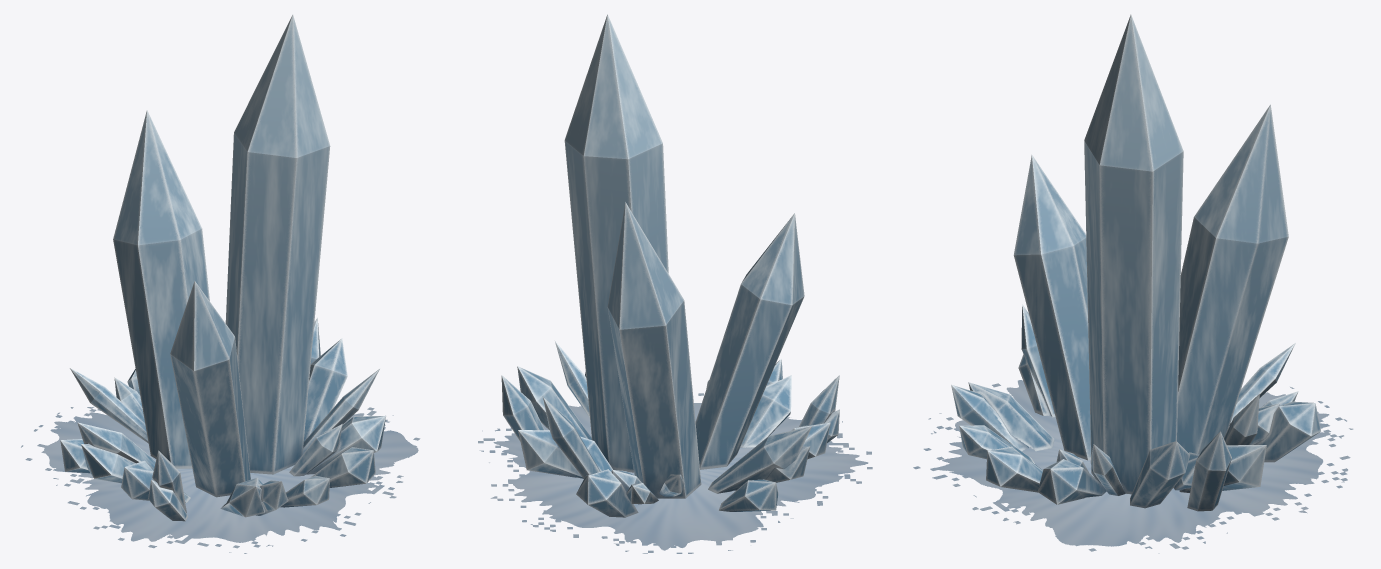
The model's file is 펑크_얼음가시_03.fbx.
3 views of the same model, side by side, from view 1: azimuth 30°, elevation 25°; view 2: azimuth 150°, elevation 25°; view 3: azimuth 270°, elevation 25° (orthographic). The views are drawn at different scales.
Parts seen in each view (by area): view 1: 펑크_얼음가시_03; view 2: 펑크_얼음가시_03; view 3: 펑크_얼음가시_03.
Boxes of the visible parts, <box> form: 펑크_얼음가시_03: <box>21,14,420,553</box>; 펑크_얼음가시_03: <box>478,14,872,553</box>; 펑크_얼음가시_03: <box>913,14,1353,553</box>.
Bounding box in the file's own units: 1200 × 1383 × 1200.
2 materials, 2 textured.
